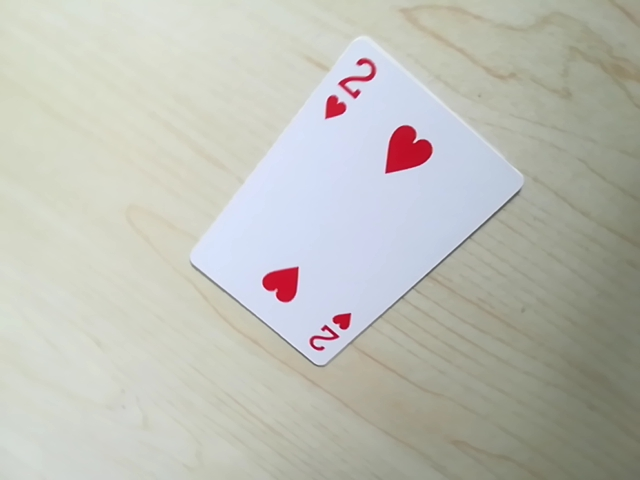hx 2: (315, 46, 379, 130), (305, 310, 358, 360)
